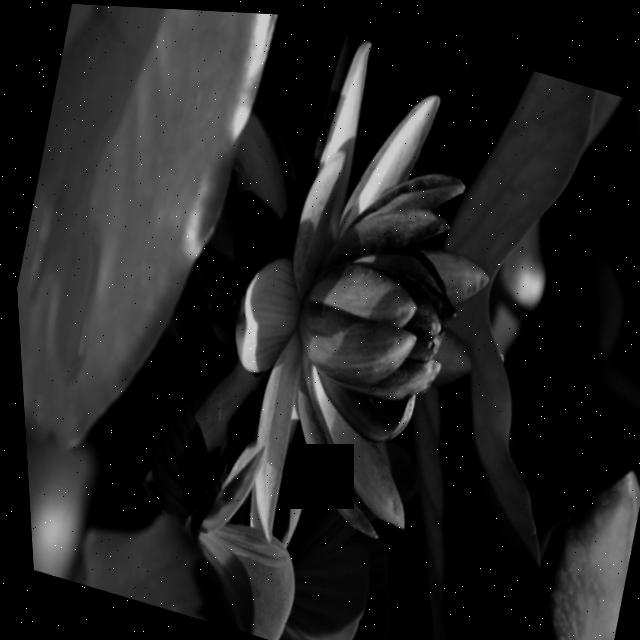rose: (83, 3, 625, 629)
